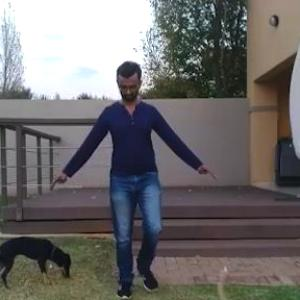land: (73, 76, 210, 295)
